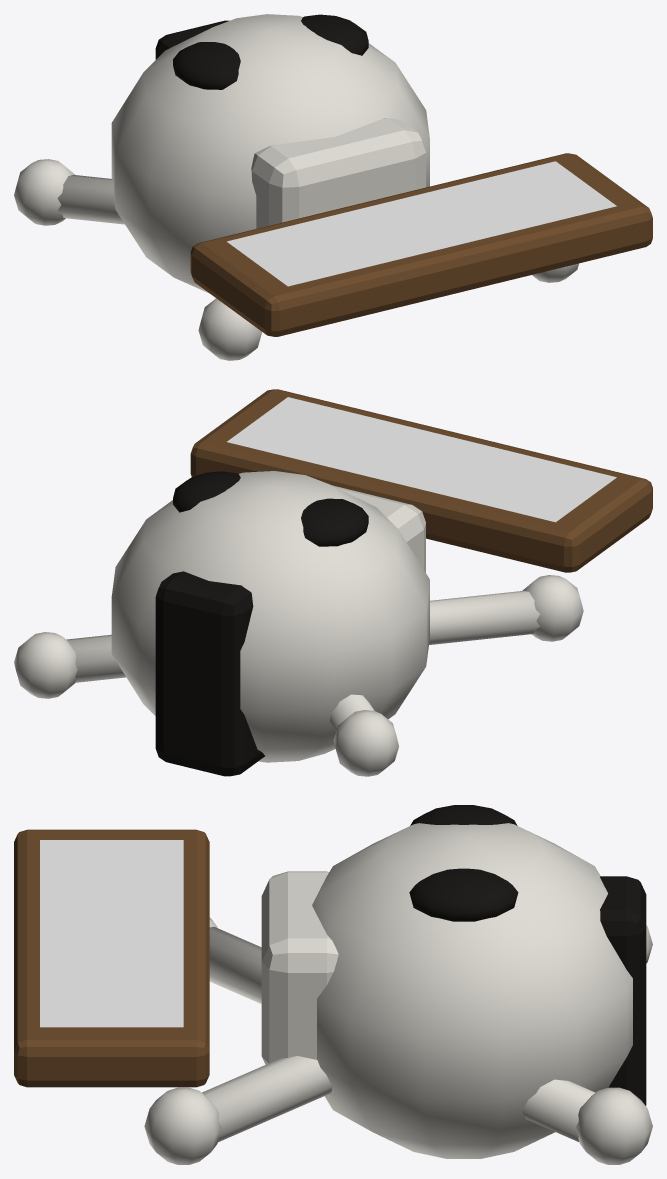
File: kc_caveira.glb
3 renders of one model, top to bottom at view 1: azimuth 30°, elevation 25°; view 2: azimuth 150°, elevation 25°; view 3: azimuth 270°, elevation 25°, orthographic. The views are drawn at different scales.
Visible parts, largest first — view 1: Sphere.004, Cube.002, screen, Cube, Sphere.001, Sphere.005, Sphere.002, Cylinder.001, Sphere.006, Cube.001; view 2: Sphere.004, Cube.002, screen, Cube.001, Cylinder, Sphere.001, Sphere.003, Sphere.002, Sphere.005, Cube, Sphere.006, Cylinder.001; view 3: Sphere.004, screen, Cube.002, Cube, Cube.001, Cylinder.001, Cylinder, Sphere.003, Sphere, Sphere.006, Sphere.005.
Boxes of the visible parts, x1=… form: Sphere.004: x1=111, y1=14, x2=429, y2=293; Cube.002: x1=190, y1=153, x2=652, y2=336; screen: x1=227, y1=161, x2=616, y2=286; Cube: x1=251, y1=118, x2=425, y2=228; Sphere.001: x1=14, y1=159, x2=74, y2=225; Sphere.005: x1=173, y1=42, x2=240, y2=89; Sphere.002: x1=198, y1=298, x2=261, y2=360; Cylinder.001: x1=57, y1=175, x2=124, y2=224; Sphere.006: x1=301, y1=14, x2=368, y2=55; Cube.001: x1=155, y1=20, x2=229, y2=59; Sphere.004: x1=111, y1=471, x2=429, y2=762; Cube.002: x1=190, y1=389, x2=652, y2=572; screen: x1=227, y1=397, x2=616, y2=522; Cube.001: x1=155, y1=571, x2=264, y2=776; Cylinder: x1=67, y1=590, x2=539, y2=682; Sphere.001: x1=333, y1=710, x2=398, y2=776; Sphere.003: x1=14, y1=632, x2=77, y2=698; Sphere.002: x1=522, y1=575, x2=583, y2=641; Sphere.005: x1=301, y1=498, x2=368, y2=546; Cube: x1=332, y1=485, x2=425, y2=572; Sphere.006: x1=173, y1=471, x2=240, y2=512; Cylinder.001: x1=329, y1=694, x2=374, y2=731; Sphere.004: x1=312, y1=823, x2=632, y2=1158; screen: x1=40, y1=840, x2=183, y2=1027; Cube.002: x1=14, y1=829, x2=209, y2=1087; Cube: x1=261, y1=871, x2=338, y2=1064; Cube.001: x1=600, y1=876, x2=646, y2=1105; Cylinder.001: x1=202, y1=1056, x2=332, y2=1142; Cylinder: x1=209, y1=927, x2=595, y2=1141; Sphere.003: x1=575, y1=1087, x2=652, y2=1164; Sphere: x1=144, y1=1087, x2=221, y2=1164; Sphere.006: x1=409, y1=868, x2=518, y2=921; Sphere.005: x1=410, y1=805, x2=517, y2=825.
Bounding box in the file's own units: 0.8 × 0.51 × 0.98.
